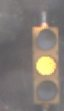Yellow: (23, 18, 63, 108)
